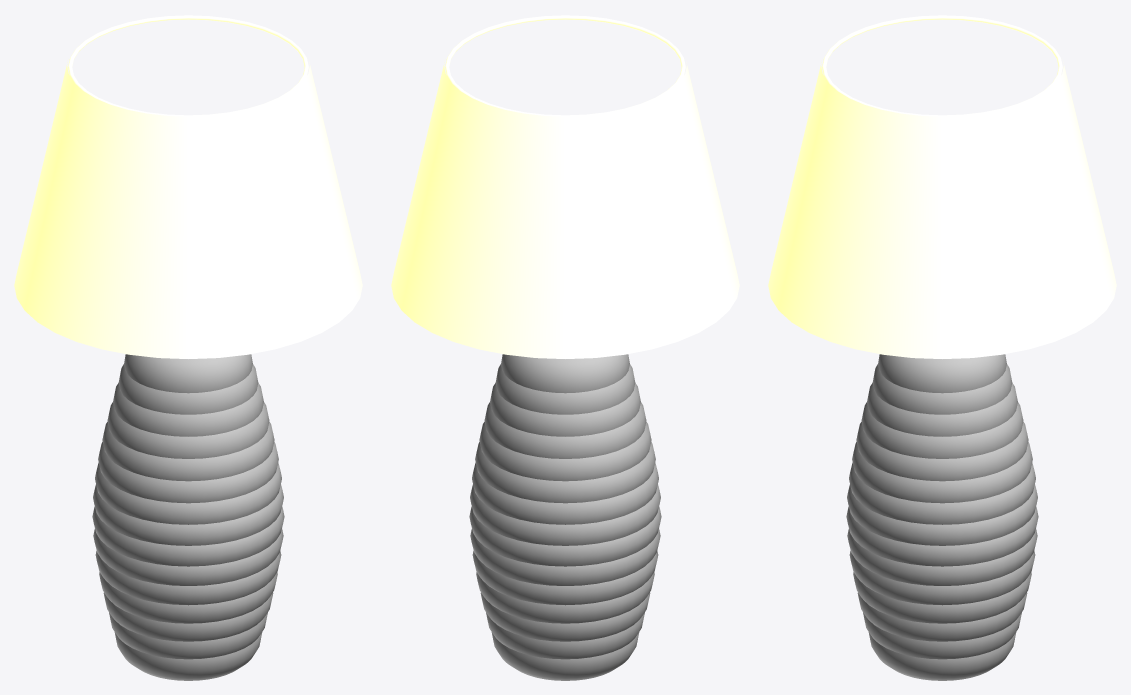
The model's file is lamp.glb.
The picture shows the model from 3 angles, left to right: view 1: azimuth 30°, elevation 25°; view 2: azimuth 150°, elevation 25°; view 3: azimuth 270°, elevation 25°; orthographic projection.
Visible parts, largest first — view 1: Head, Base, Upper_circle; view 2: Head, Base, Upper_circle; view 3: Head, Base, Upper_circle.
Boxes of the visible parts, x1,y1,x2,y2 form: Head: (14,62,362,358); Base: (92,354,284,680); Upper_circle: (68,15,308,116); Head: (391,62,739,358); Base: (469,354,661,680); Upper_circle: (445,15,685,116); Head: (768,62,1116,358); Base: (846,354,1038,680); Upper_circle: (822,15,1062,116).
Size of the model in its own units: 1.65 by 3.11 by 1.65.
